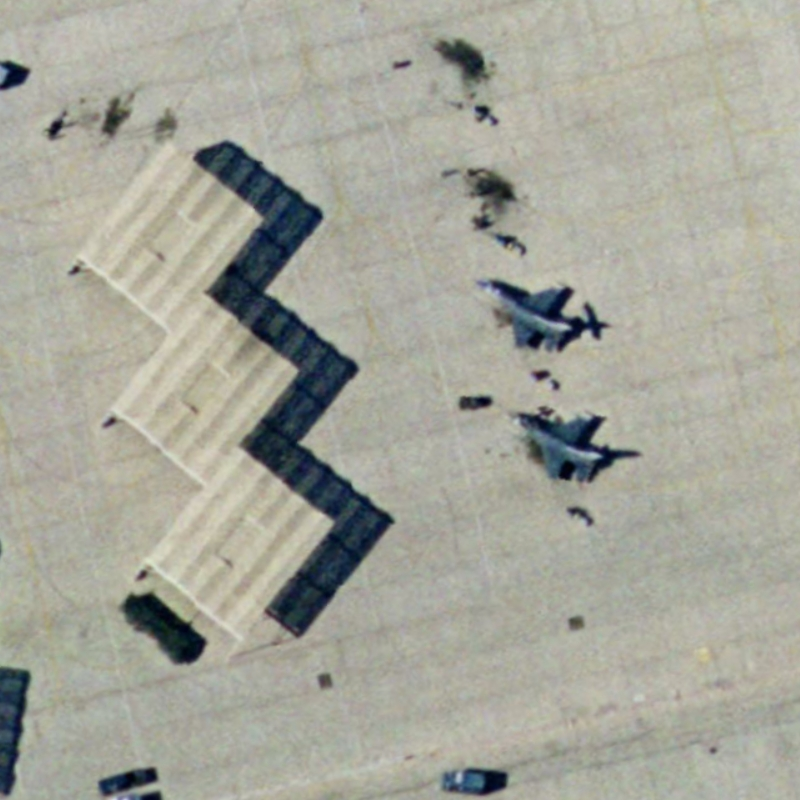A5: (491, 403, 616, 489), (465, 271, 583, 358)
